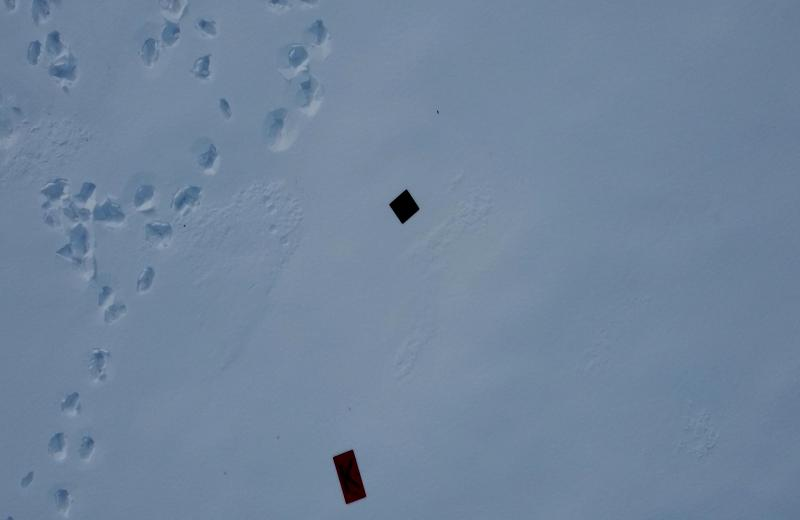Rectangle: (332, 449, 367, 506)
Square: (389, 187, 422, 225)
